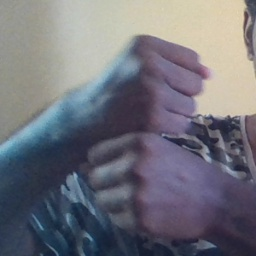G: (80, 33, 220, 240)
